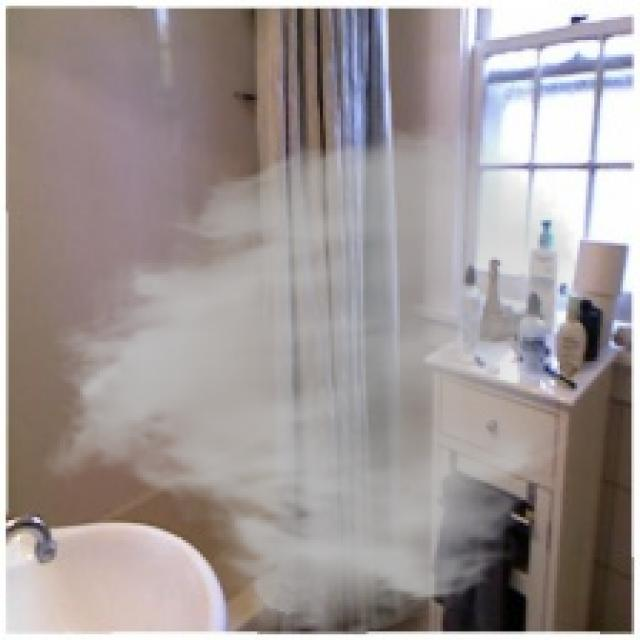smoke: (40, 120, 591, 637)
